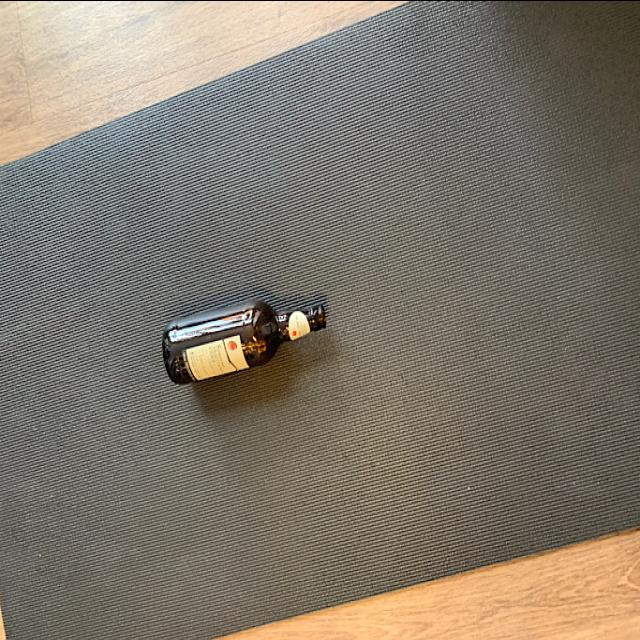Glass Bottle: (158, 290, 330, 384)
